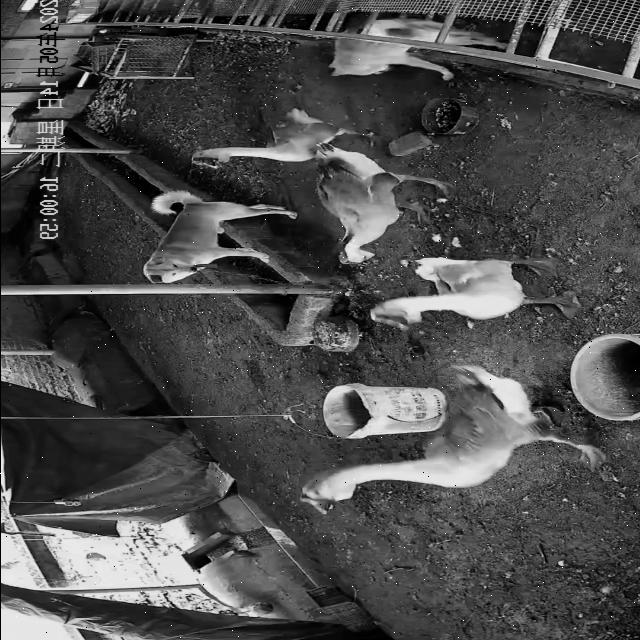dog: (143, 191, 299, 285), (327, 18, 509, 82)
